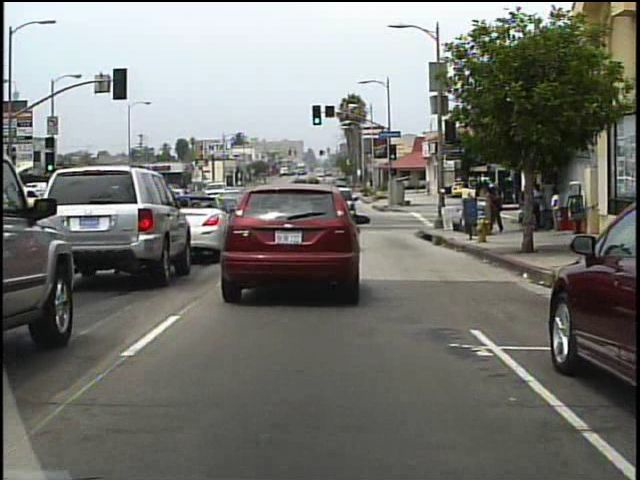person: (487, 182, 507, 235), (548, 185, 564, 235), (533, 181, 547, 231), (520, 184, 532, 221)
